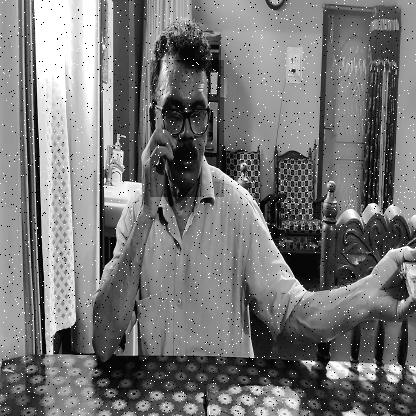Normal: (150, 60, 224, 197)
